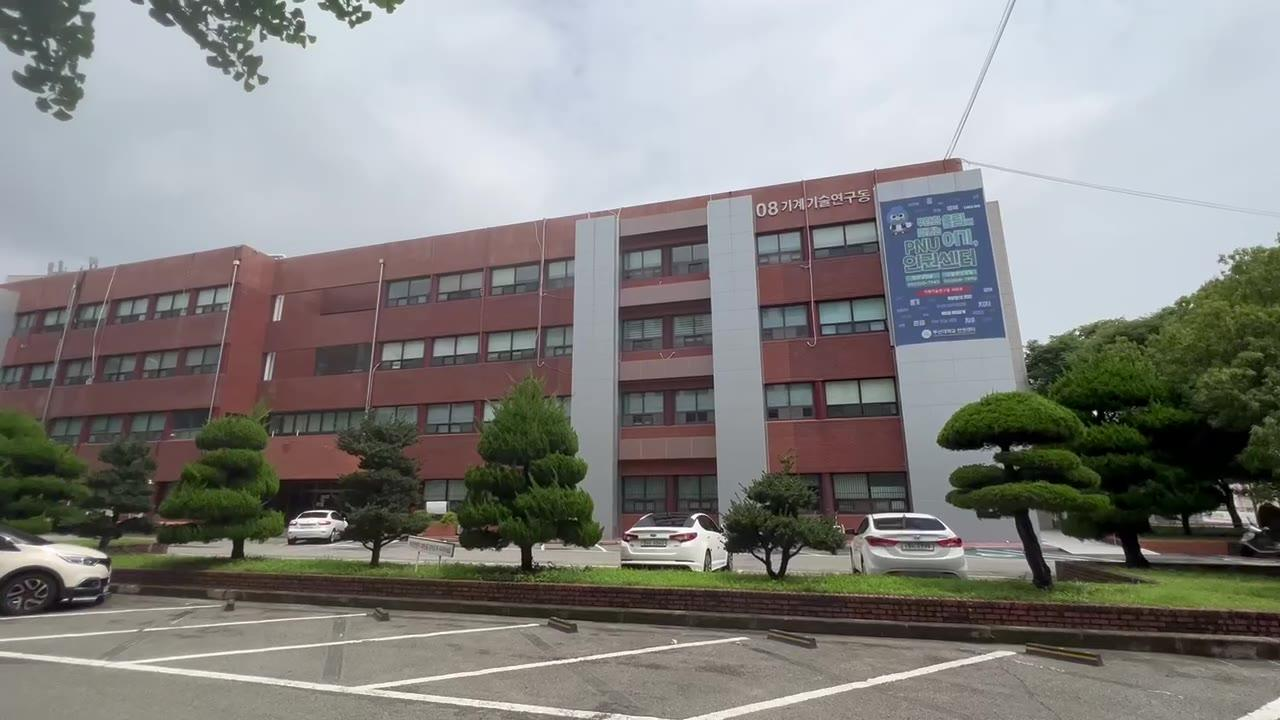building: (153, 192, 894, 426)
